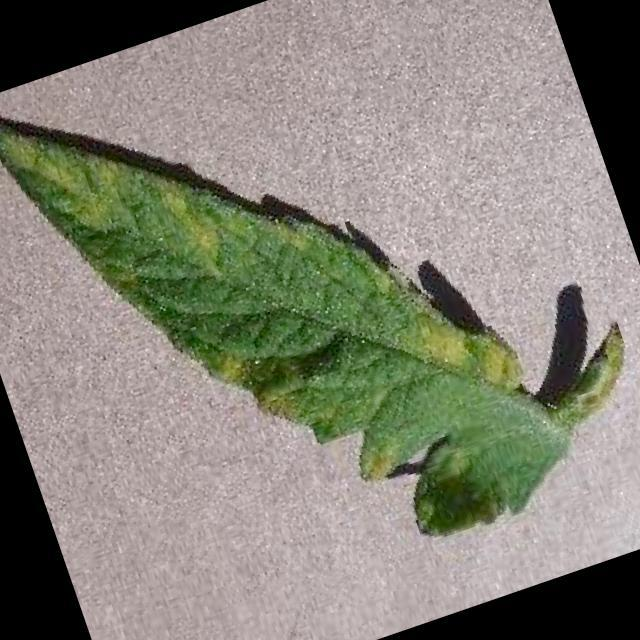Tomato mold leaf: (0, 0, 591, 636)
